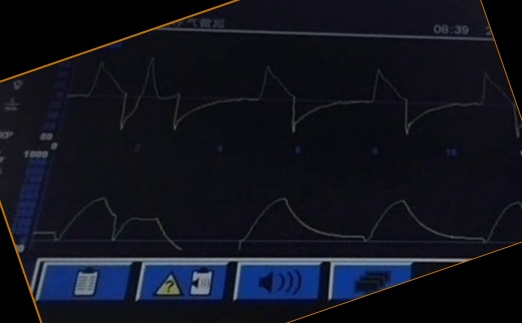Double_Triggering Flow: (80, 55, 499, 138)
Double_Triggering Volume: (34, 193, 522, 249)
